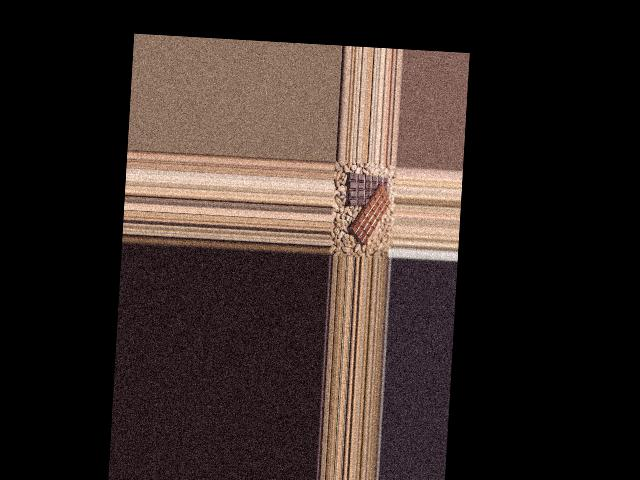chocolate: (343, 167, 390, 208)
